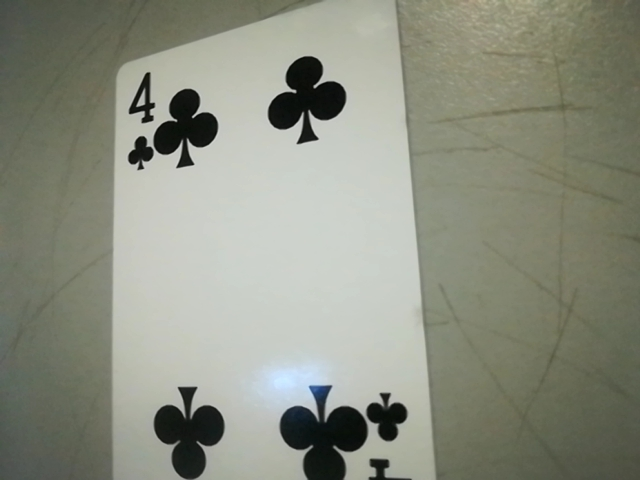mh 4: (116, 69, 167, 176)
